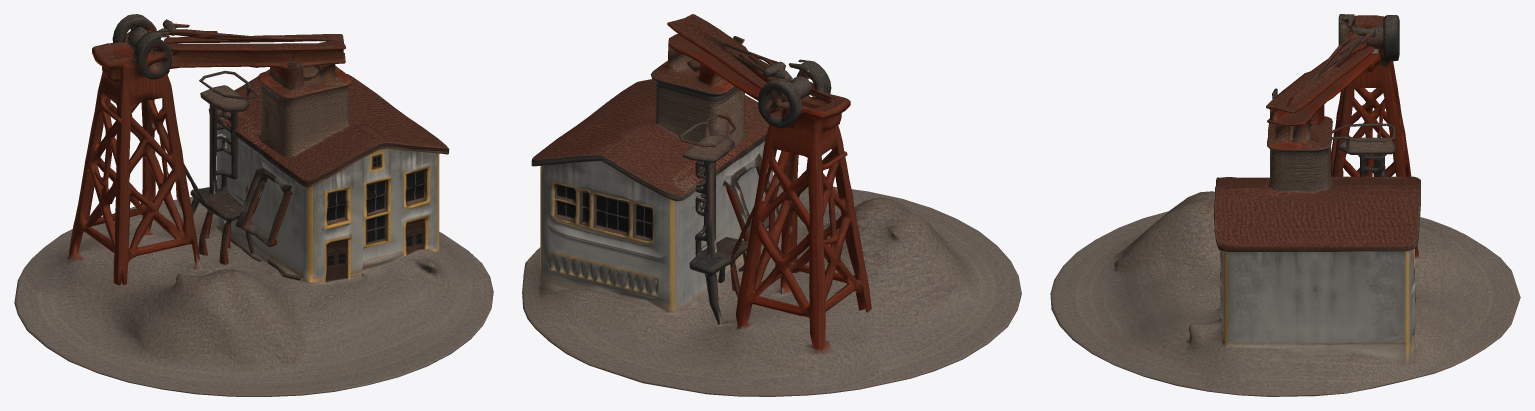
The model's file is mine.glb.
The picture shows the model from 3 angles, left to right: view 1: azimuth 30°, elevation 25°; view 2: azimuth 150°, elevation 25°; view 3: azimuth 270°, elevation 25°; orthographic projection. The views are drawn at different scales.
Bounding box in the file's own units: 1.9 × 1.12 × 1.9.
Materials: 1 (1 with a texture image).
